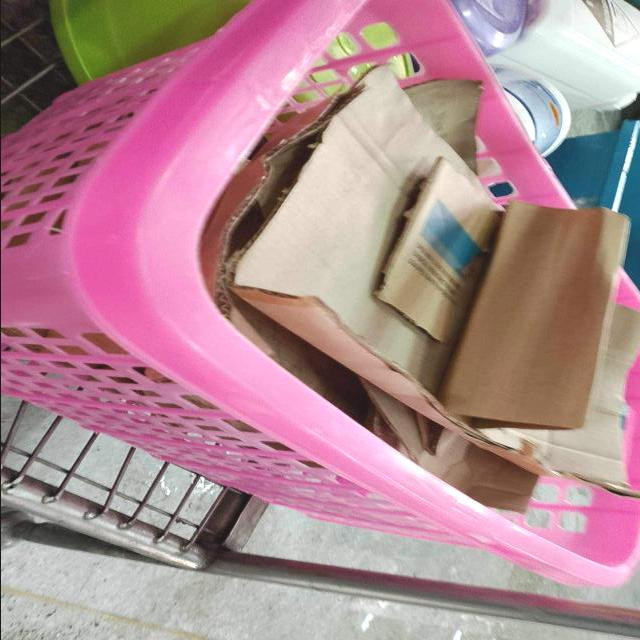General: (3, 1, 639, 619), (205, 60, 639, 511)
Sharps: (486, 58, 572, 159)
